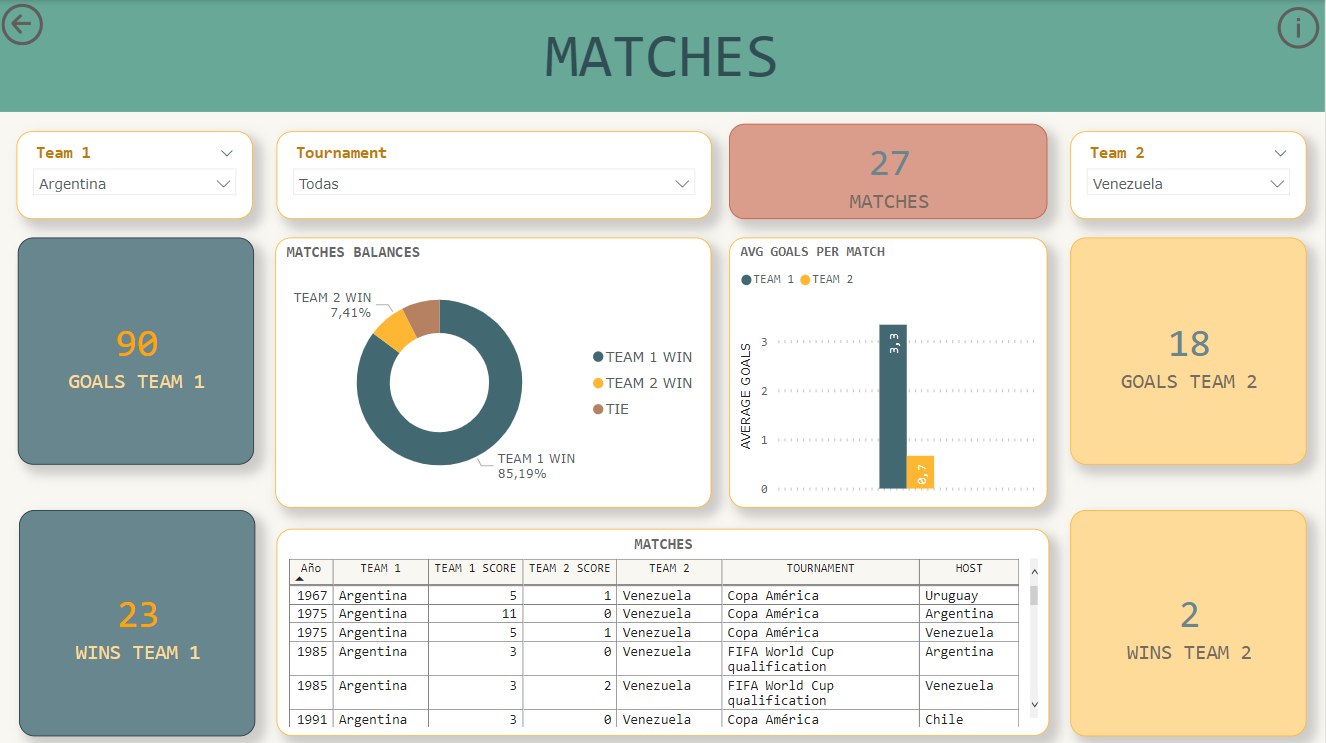

What the dashboard file says about the page in this screenshot:
{"tool":"powerbi","page":{"name":"MATCHES","canvas":[1280,720],"ordinal":3},"visuals":[{"type":"shape","box":[0,0,1279.6,108],"z":0},{"type":"tableEx","title":"MATCHES","fields":{"Values":["calendar.date.Variación.Jerarquía de fechas.Año","teams_results.team","Sum(teams_results.team_score)","Sum(teams_results.adversary_score)","teams_results.adversary","teams_results.tournament","teams_results.country"]},"box":[267.7,510.2,745.3,200.2],"z":1000},{"type":"slicer","fields":{"Values":["teams_results.team"]},"box":[16.9,126.6,227.9,84.4],"z":2000},{"type":"slicer","fields":{"Values":["teams_results.adversary"]},"box":[1033.6,126.6,227.9,84.4],"z":3000},{"type":"donutChart","title":"MATCHES BALANCES","fields":{"Y":["teams_results.WINS","teams_results.LOSSES","teams_results.TIES"]},"box":[266.5,229.1,420.9,260.5],"z":4000},{"type":"clusteredColumnChart","title":"AVG GOALS PER MATCH","fields":{"Y":["teams_results.AVG_GOALS","teams_results.AVG_AGAINST"]},"box":[704.3,229.1,307.5,260.5],"z":5000},{"type":"card","fields":{"Values":["teams_results.GOALS_TEAM"]},"box":[18.1,229.1,227.9,219.5],"z":6000},{"type":"card","fields":{"Values":["teams_results.GOALS_AGAINST"]},"box":[1033.6,229.1,227.9,219.5],"z":7000},{"type":"slicer","fields":{"Values":["teams_results.tournament"]},"box":[267.7,126.6,419.7,84.4],"z":8000},{"type":"card","fields":{"Values":["teams_results.WINS"]},"box":[19.3,492.1,227.9,218.3],"z":9000},{"type":"card","fields":{"Values":["teams_results.LOSSES"]},"box":[1033.6,492.1,227.9,218.3],"z":10000},{"type":"card","fields":{"Values":["CountNonNull(teams_results.match_id)"]},"box":[704.3,119.4,307.5,91.7],"z":11000},{"type":"actionButton","box":[2.4,3.6,39.8,39.8],"z":12000},{"type":"actionButton","box":[1227.7,0,51.9,53.1],"z":12001}]}

Visuals, with their boxes in screenshot pixels (x1, y1, x2, y2), scaled from the page's 1280x720 canvas onto the 1326x743 screenshot:
shape: box(0, 0, 1325, 111)
"MATCHES" tableEx: box(277, 526, 1049, 733)
slicer - teams_results.team: box(18, 131, 254, 218)
slicer - teams_results.adversary: box(1071, 131, 1307, 218)
"MATCHES BALANCES" donutChart: box(276, 236, 712, 505)
"AVG GOALS PER MATCH" clusteredColumnChart: box(730, 236, 1048, 505)
card - teams_results.GOALS_TEAM: box(19, 236, 255, 463)
card - teams_results.GOALS_AGAINST: box(1071, 236, 1307, 463)
slicer - teams_results.tournament: box(277, 131, 712, 218)
card - teams_results.WINS: box(20, 508, 256, 733)
card - teams_results.LOSSES: box(1071, 508, 1307, 733)
card - CountNonNull(teams_results.match_id): box(730, 123, 1048, 218)
actionButton: box(2, 4, 44, 45)
actionButton: box(1272, 0, 1325, 55)
